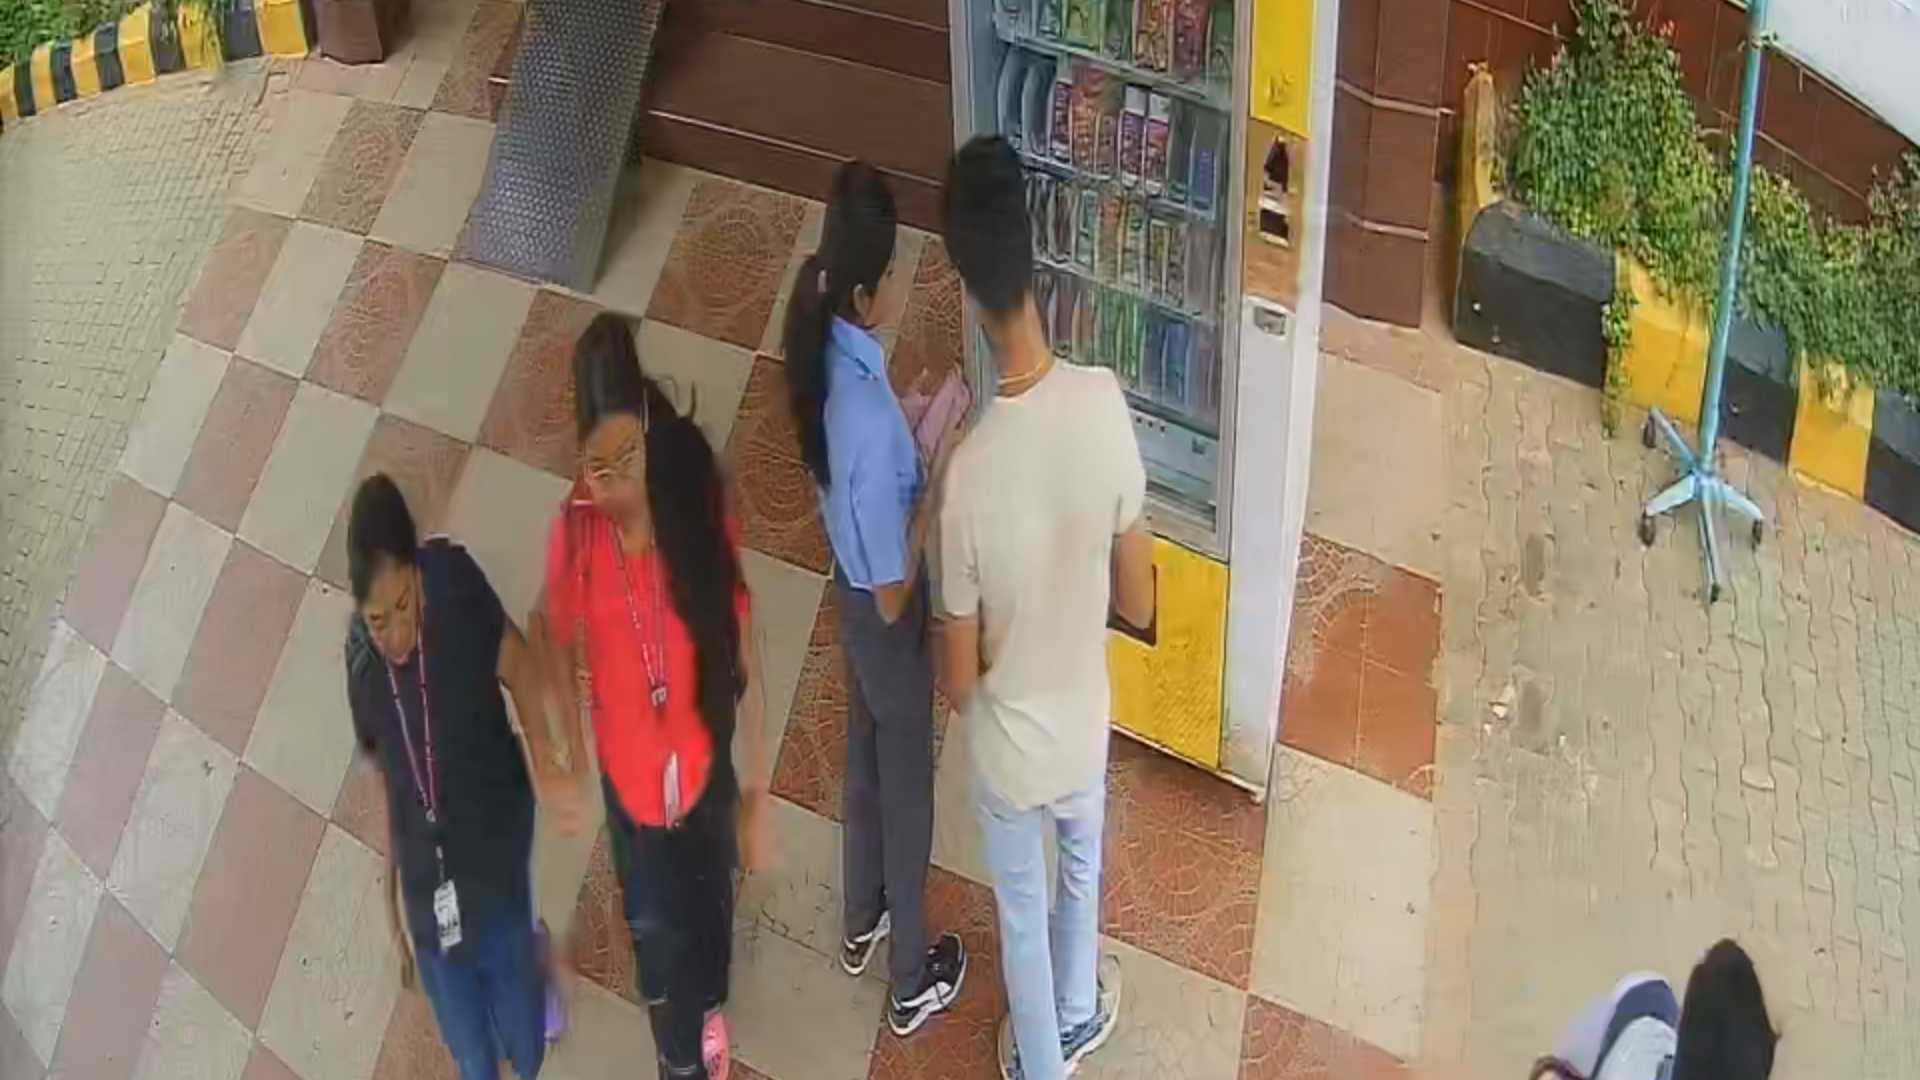not intruder: (531, 278, 764, 1080), (339, 465, 574, 1080)
